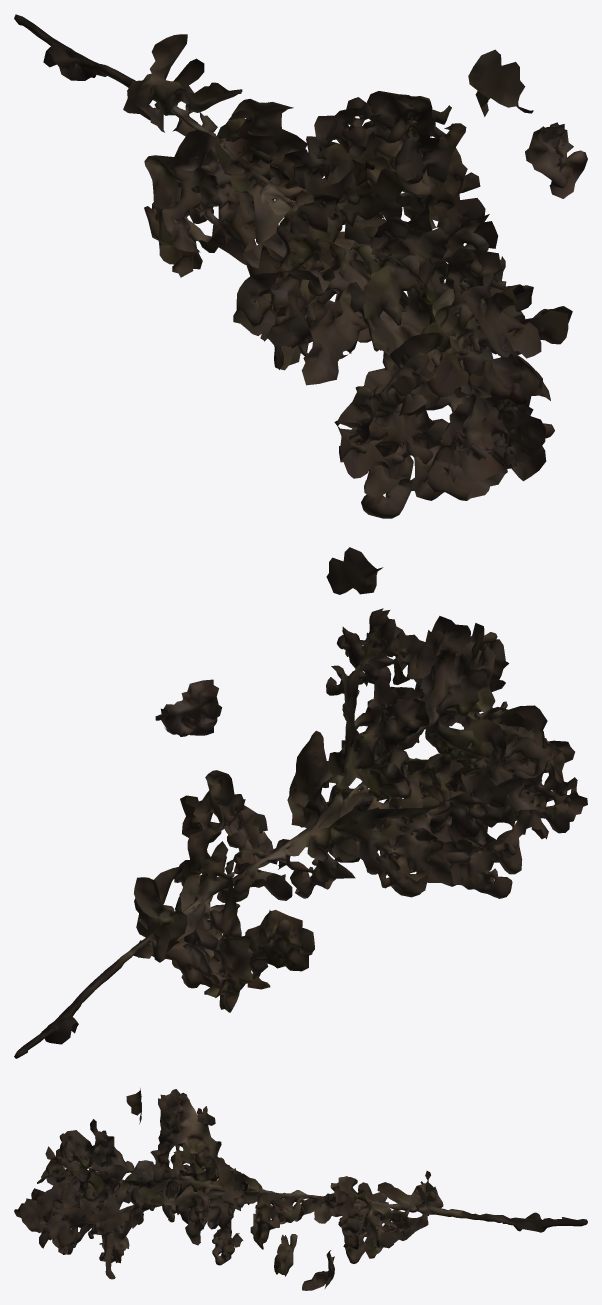
The model's file is tree14_mesh.dae.
3 renders of one model, top to bottom at view 1: azimuth 30°, elevation 25°; view 2: azimuth 150°, elevation 25°; view 3: azimuth 270°, elevation 25°, orthographic. The views are drawn at different scales.
Parts seen in each view (by area): view 1: node0; view 2: node0; view 3: node0.
Part boxes in pixels (bbox=[...]): node0: bbox=[14, 14, 587, 518]; node0: bbox=[14, 547, 587, 1058]; node0: bbox=[14, 1088, 587, 1290].
Size of the model in its own units: 7.43 by 7.69 by 19.23.
